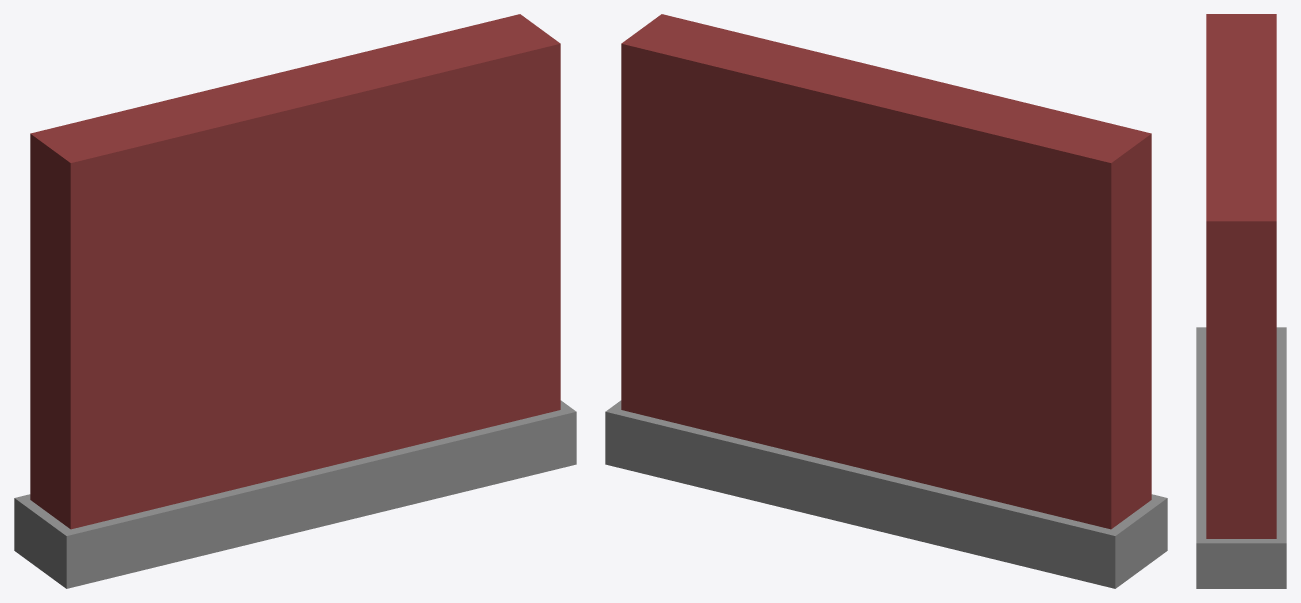
The model's file is qiang04.FBX.
3 renders of one model, left to right at view 1: azimuth 30°, elevation 25°; view 2: azimuth 150°, elevation 25°; view 3: azimuth 270°, elevation 25°, orthographic. The views are drawn at different scales.
Parts seen in each view (by area): view 1: 04; view 2: 04; view 3: 04.
Part boxes in pixels (x1,y1,x2,y2): 04: (14, 14, 576, 588); 04: (605, 14, 1167, 588); 04: (1196, 14, 1286, 588).
Size of the model in its own units: 413 by 324 by 73.
